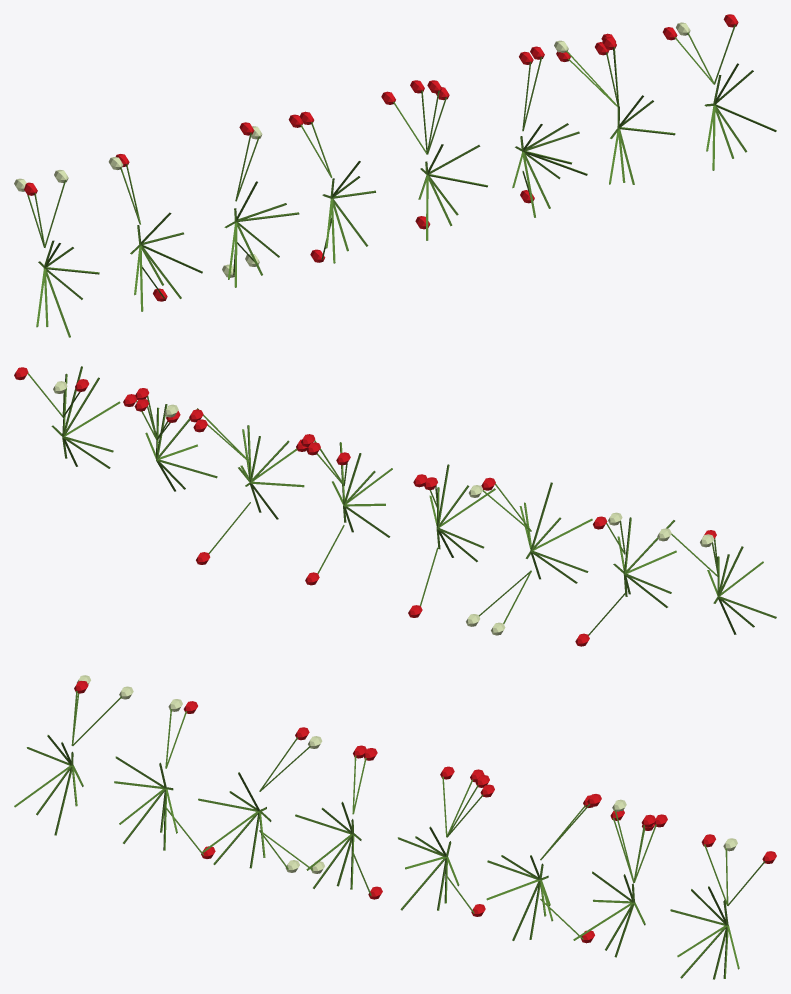
File: r29c1_rest.obj
The picture shows the model from 3 angles, top to bottom: view 1: azimuth 30°, elevation 25°; view 2: azimuth 150°, elevation 25°; view 3: azimuth 330°, elevation 25°; orthographic projection. The views are drawn at different scales.
Parts seen in each view (by area): view 1: r29c1_rest; view 2: r29c1_rest; view 3: r29c1_rest.
Part boxes in pixels (left/top/right/bottom): r29c1_rest: left=14, top=14, right=776, bottom=337; r29c1_rest: left=14, top=366, right=776, bottom=646; r29c1_rest: left=14, top=675, right=776, bottom=979.
Size of the model in its own units: 1.94 by 0.3948 by 0.2505.
